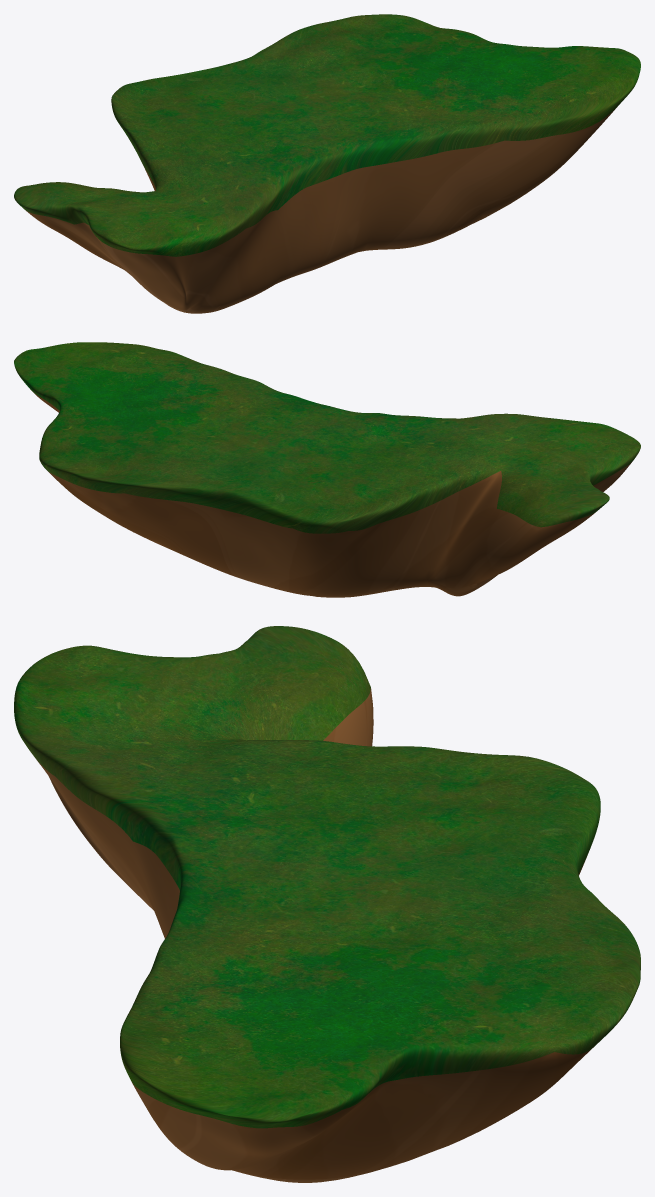
Rendered from ilha5.fbx.
3 views of the same model, one above another, from view 1: azimuth 30°, elevation 25°; view 2: azimuth 150°, elevation 25°; view 3: azimuth 270°, elevation 25° (orthographic). The views are drawn at different scales.
Visible parts, largest first — view 1: polySurface8; view 2: polySurface8; view 3: polySurface8.
Part boxes in pixels (box(x1,y1,x2,y2)): polySurface8: box(14, 14, 640, 313); polySurface8: box(14, 342, 640, 597); polySurface8: box(14, 626, 640, 1182).
Size of the model in its own units: 37.94 by 8.58 by 20.32.
2 materials, 2 textured.
